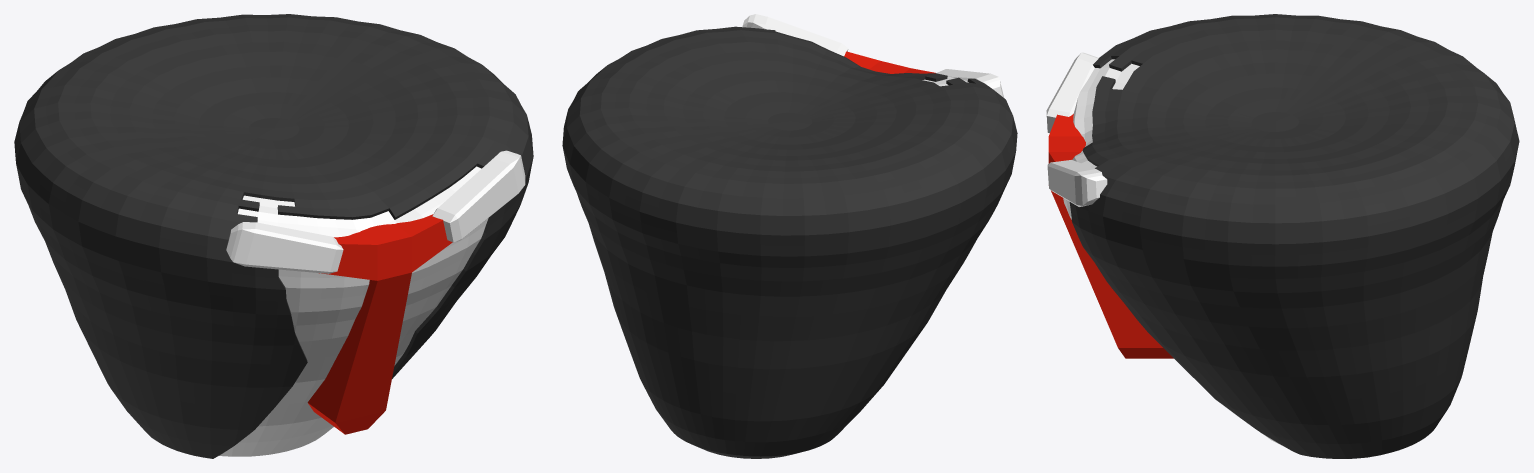
The model's file is BusinessSuit.fbx.
3 views of the same model, side by side, from view 1: azimuth 30°, elevation 25°; view 2: azimuth 150°, elevation 25°; view 3: azimuth 270°, elevation 25° (orthographic). The views are drawn at different scales.
Visible parts, largest first — view 1: Cube.002; view 2: Cube.002; view 3: Cube.002.
Boxes of the visible parts, left/top/right/bottom form: Cube.002: left=14, top=14, right=533, bottom=458; Cube.002: left=562, top=14, right=1017, bottom=458; Cube.002: left=1046, top=14, right=1519, bottom=458.
Size of the model in its own units: 202 by 150 by 195.
